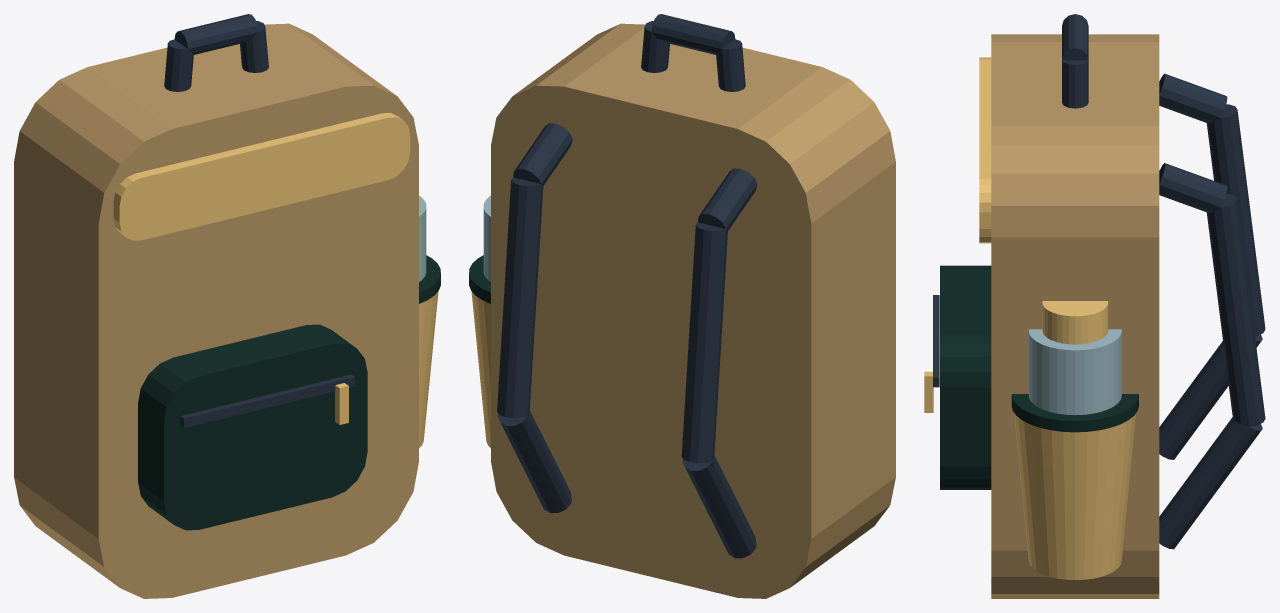
Rendered from backpack.glb.
The picture shows the model from 3 angles, left to right: view 1: azimuth 30°, elevation 25°; view 2: azimuth 150°, elevation 25°; view 3: azimuth 270°, elevation 25°; orthographic projection.
Parts seen in each view (by area): view 1: fabric shell, front pocket, lid binding, zip, carry loop1, side pocket, carry loop0, carry loop2, pocket rim, bottle neck, zip pull; view 2: fabric shell, strap -0.341, strap 0.341, strap -0.342, strap 0.342, carry loop1, strap -0.340, strap 0.340, side pocket, carry loop0, carry loop2, pocket rim (+1 smaller); view 3: fabric shell, side pocket, front pocket, strap 0.341, bottle neck, strap 0.342, strap -0.341, strap -0.342, cap, pocket rim, lid binding, strap -0.340 (+4 smaller).
Boxes of the visible parts, x1,y1,x2,y2 form: fabric shell: [14, 23, 418, 598]; front pocket: [138, 324, 367, 530]; lid binding: [113, 113, 410, 240]; zip: [180, 374, 354, 428]; carry loop1: [174, 14, 258, 54]; side pocket: [419, 291, 438, 448]; carry loop0: [164, 39, 193, 91]; carry loop2: [240, 21, 268, 72]; pocket rim: [419, 255, 440, 303]; bottle neck: [419, 195, 426, 281]; zip pull: [335, 383, 348, 424]; fabric shell: [491, 23, 895, 598]; strap -0.341: [681, 222, 727, 463]; strap 0.341: [497, 177, 543, 417]; strap -0.342: [682, 455, 756, 558]; strap 0.342: [497, 410, 571, 512]; carry loop1: [651, 14, 735, 54]; strap -0.340: [698, 168, 757, 230]; strap 0.340: [513, 123, 572, 185]; side pocket: [471, 291, 490, 448]; carry loop0: [716, 39, 745, 91]; carry loop2: [641, 21, 669, 72]; pocket rim: [469, 255, 490, 303]; fabric shell: [991, 34, 1159, 598]; side pocket: [1014, 413, 1136, 580]; front pocket: [940, 265, 991, 489]; strap 0.341: [1206, 194, 1265, 427]; bottle neck: [1028, 329, 1121, 415]; strap 0.342: [1159, 417, 1262, 549]; strap -0.341: [1206, 104, 1265, 336]; strap -0.342: [1159, 334, 1262, 459]; cap: [1042, 301, 1108, 344]; pocket rim: [1011, 394, 1138, 432]; lid binding: [979, 57, 991, 243]; strap -0.340: [1159, 73, 1227, 123].
Bounding box in the file's own units: 1.38 × 1.84 × 1.1.
